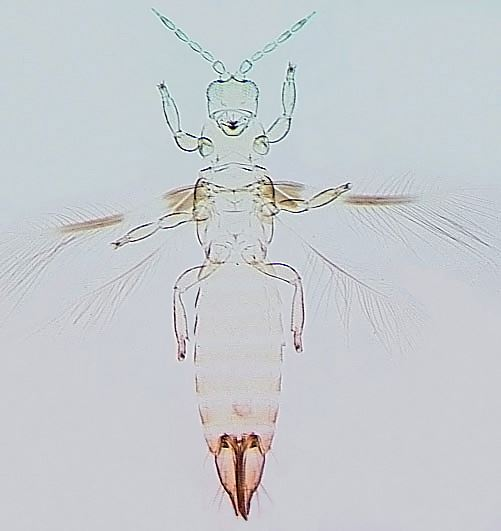Thripidae: (1, 6, 499, 530)
